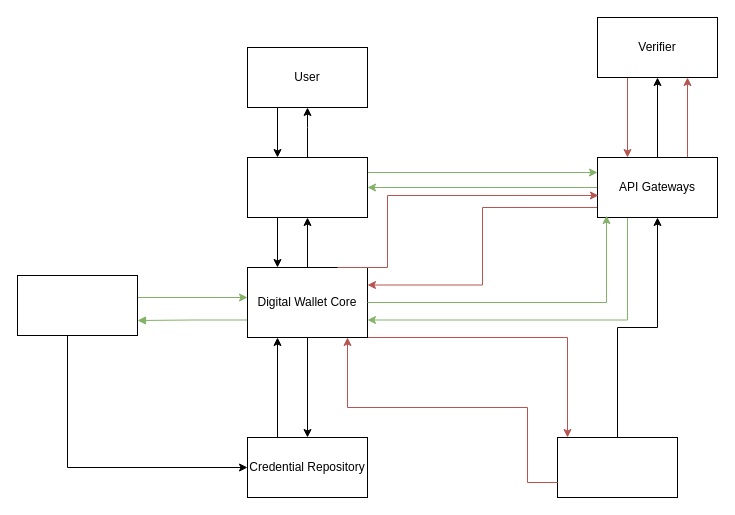
Some shapes in this 735 by 515 pixel diagram are drawn without their labels. Here are the shapes that lost their labels. From the top down, the centre of each, then its label:
point 307,187: UI
point 77,305: VC Issuer
point 617,467: DID Management
